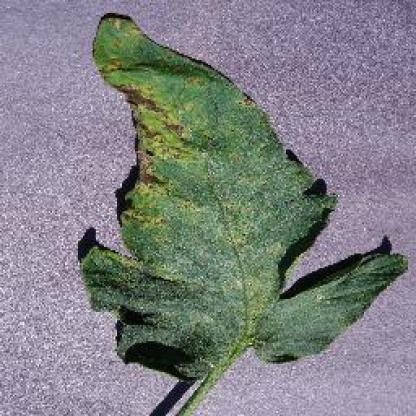bad leaf: (60, 8, 414, 414)
